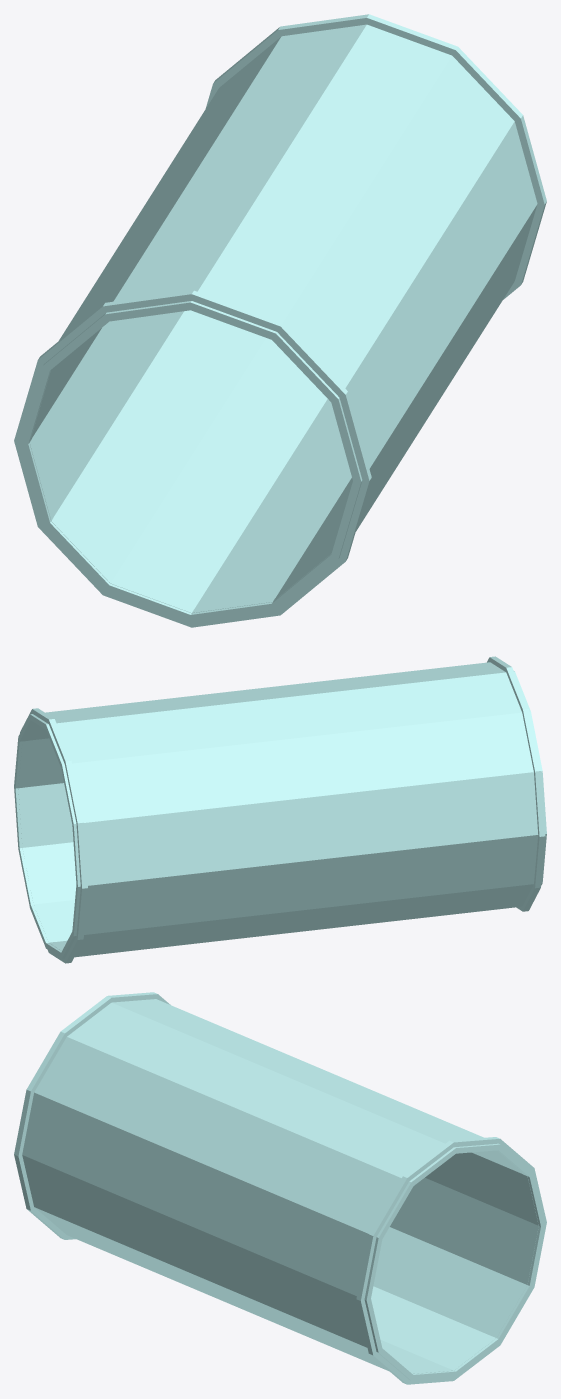
File: tube_diagonal.glb
3 views of the same model, one above another, from view 1: azimuth 30°, elevation 25°; view 2: azimuth 150°, elevation 25°; view 3: azimuth 270°, elevation 25° (orthographic). The views are drawn at different scales.
Visible parts, largest first — view 1: Round_Glass_Shell, Start_Collar, End_Collar; view 2: Round_Glass_Shell, End_Collar, Start_Collar; view 3: Round_Glass_Shell, End_Collar, Start_Collar.
Boxes of the visible parts, <box> form: Round_Glass_Shell: <box>20,24,537,622</box>; Start_Collar: <box>14,290,371,627</box>; End_Collar: <box>205,14,546,299</box>; Round_Glass_Shell: <box>14,662,546,958</box>; End_Collar: <box>18,708,87,963</box>; Start_Collar: <box>487,656,545,911</box>; Round_Glass_Shell: <box>22,999,545,1380</box>; End_Collar: <box>356,1137,546,1384</box>; Start_Collar: <box>14,992,170,1239</box>.
Bounding box in the file's own units: 3.04 × 1.5 × 3.04.
Materials: 2 (2 with a texture image).
